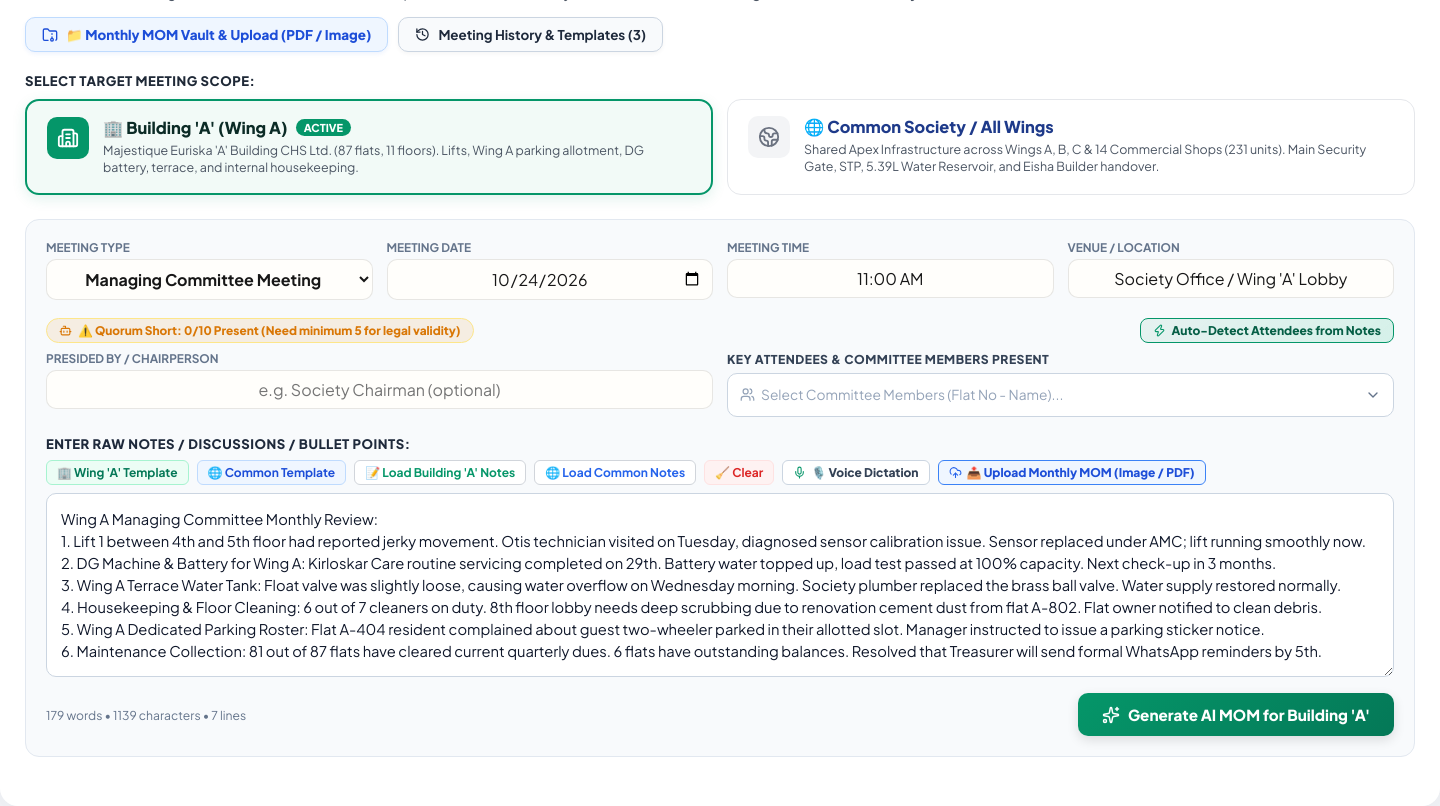
Scenario: AiMomGenerator Component › generates MOM and displays official letterhead view with resolutions and signatures
(page scrolled)
Step 1. Click the button "Generate AI MOM for Building 'A'" → [1236, 715], box [1078,694,1394,736]
(page scrolled)
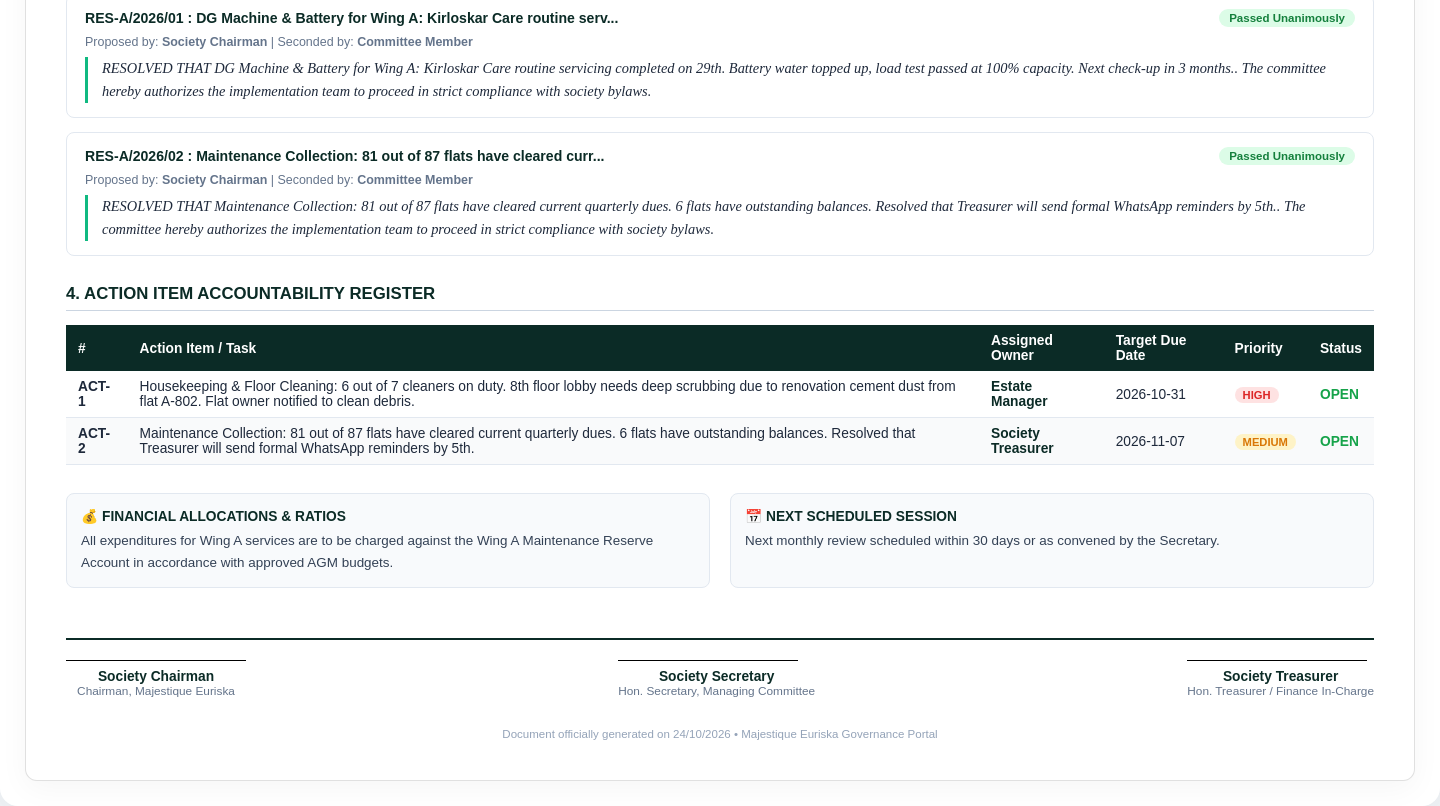
Now the heading "4. Action Item Accountability Register" is shown, box [66,284,1374,311]
Now the text "Chairman, Majestique Euriska" is shown, box [66,684,246,698]
